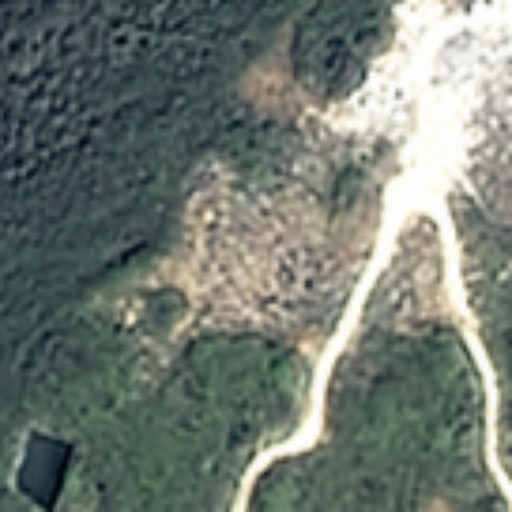landslide: (155, 4, 504, 346)
